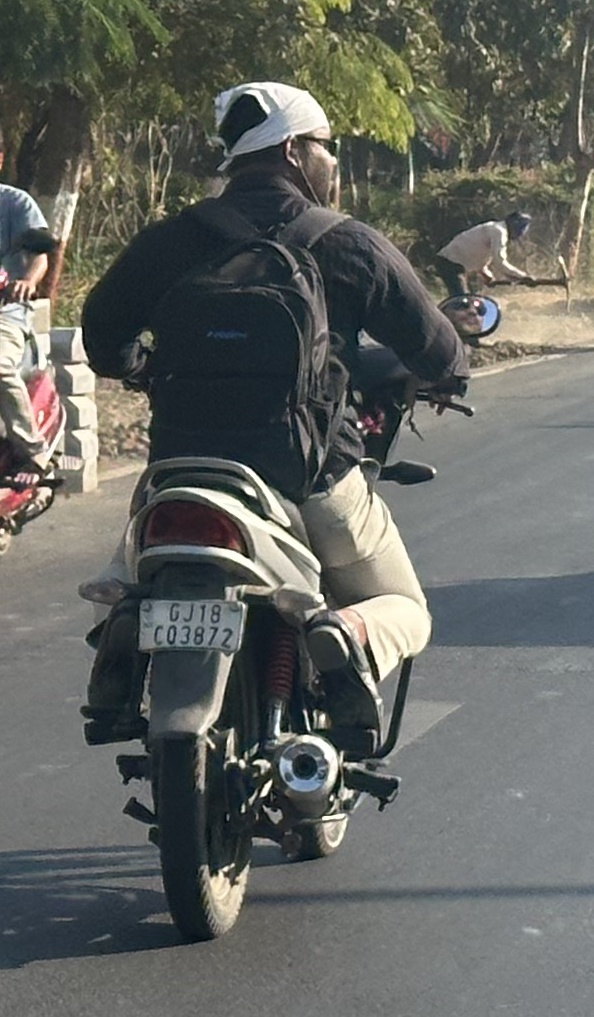BikeWithRider: (60, 69, 511, 955)
NoHelmet: (197, 73, 354, 218)
